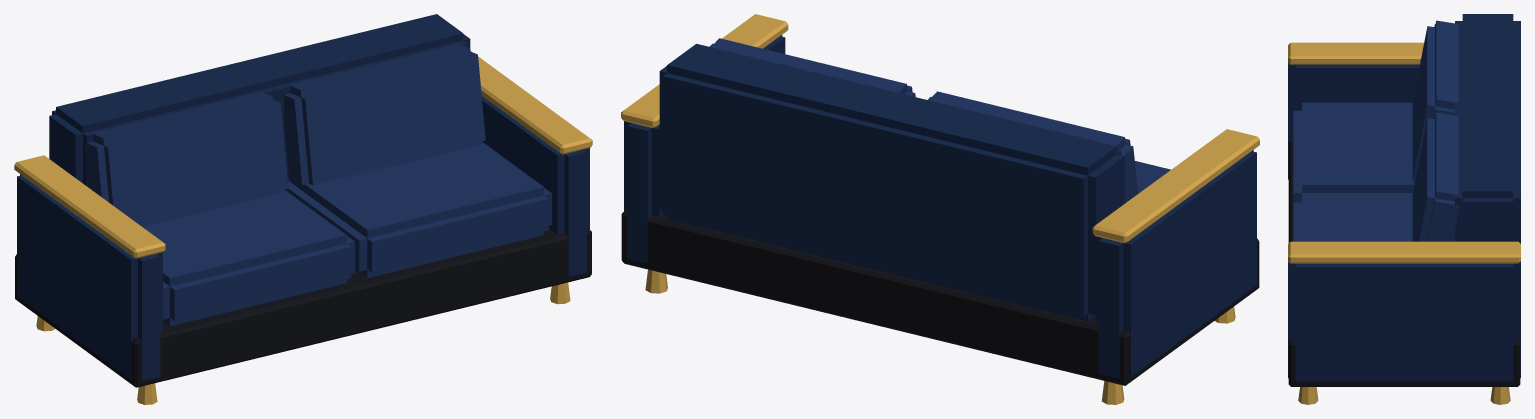
Rendered from sofa_2.glb.
3 views of the same model, side by side, from view 1: azimuth 30°, elevation 25°; view 2: azimuth 150°, elevation 25°; view 3: azimuth 270°, elevation 25° (orthographic). The views are drawn at different scales.
Visible parts, largest first — view 1: sofa_2; view 2: sofa_2; view 3: sofa_2.
Part boxes in pixels (box(x1,y1,x2,y2)): sofa_2: box(14, 14, 592, 404); sofa_2: box(621, 14, 1259, 404); sofa_2: box(1288, 14, 1520, 404).
Bounding box in the file's own units: 2 × 0.88 × 0.92.
